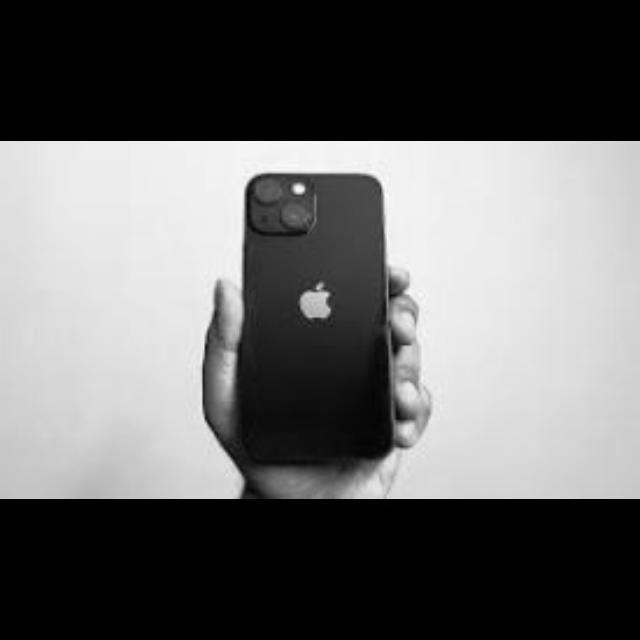fake: (226, 168, 401, 473)
